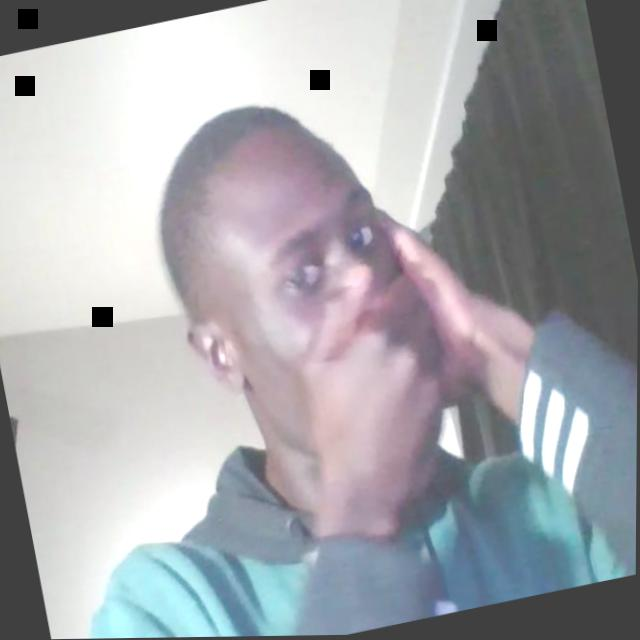NO-Mask: (200, 129, 436, 473)
